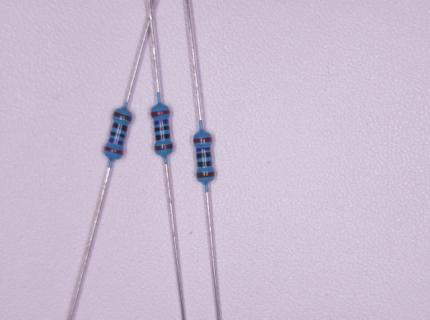Black band: (113, 122, 128, 133), (110, 131, 126, 139), (156, 134, 170, 141), (197, 152, 211, 159), (155, 126, 169, 132), (197, 161, 211, 167)
Brown band: (114, 111, 131, 121), (155, 144, 172, 151), (197, 172, 215, 178)
Red band: (105, 146, 123, 155), (151, 110, 169, 117), (194, 137, 212, 143)
Violet band: (109, 138, 124, 146), (196, 147, 211, 152), (154, 120, 168, 125)
